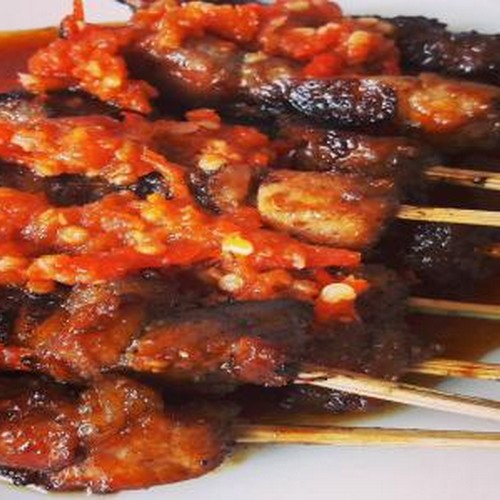sate plecing: (8, 2, 415, 480)
